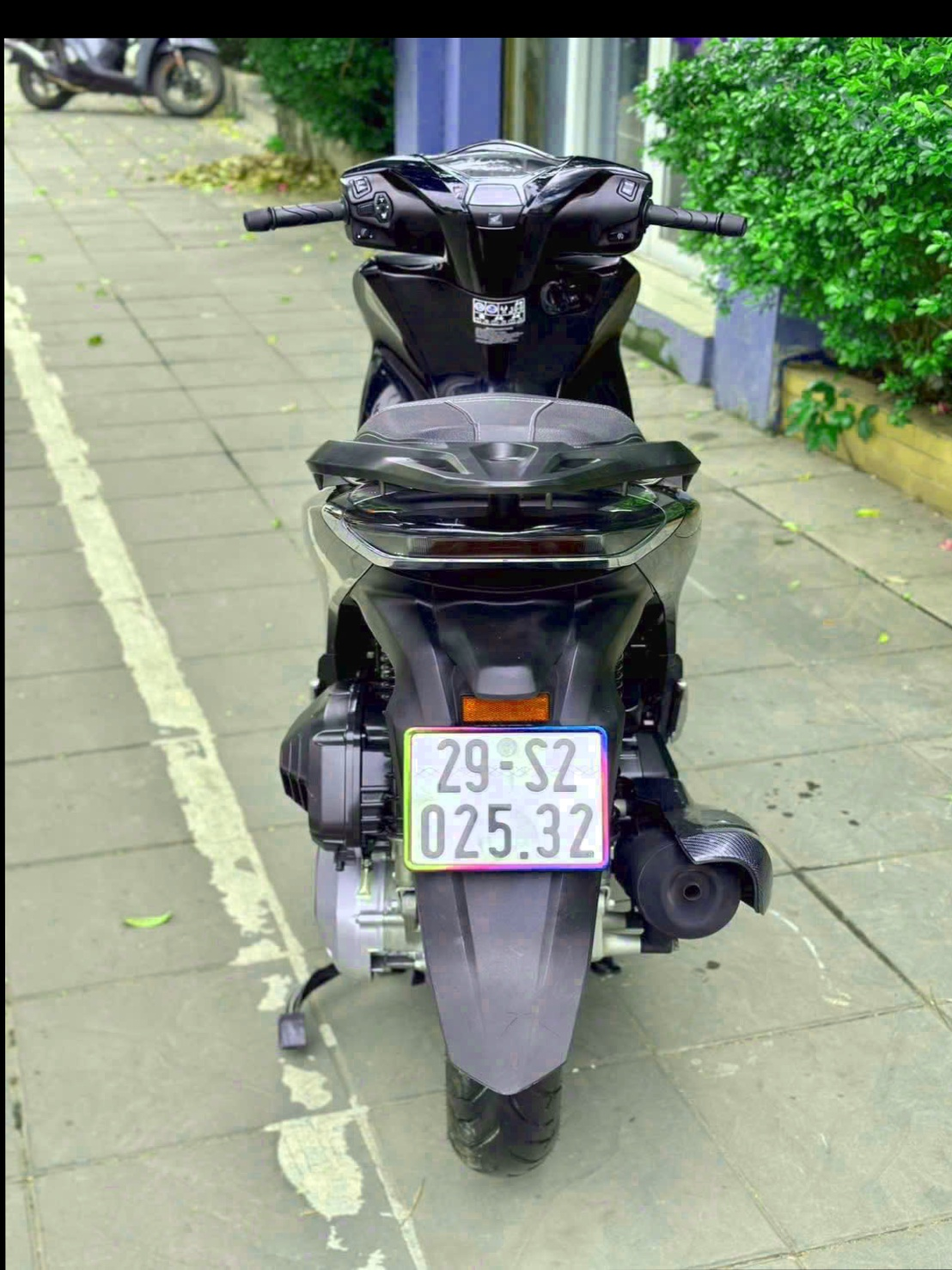Bien-so: (399, 724, 614, 873)
